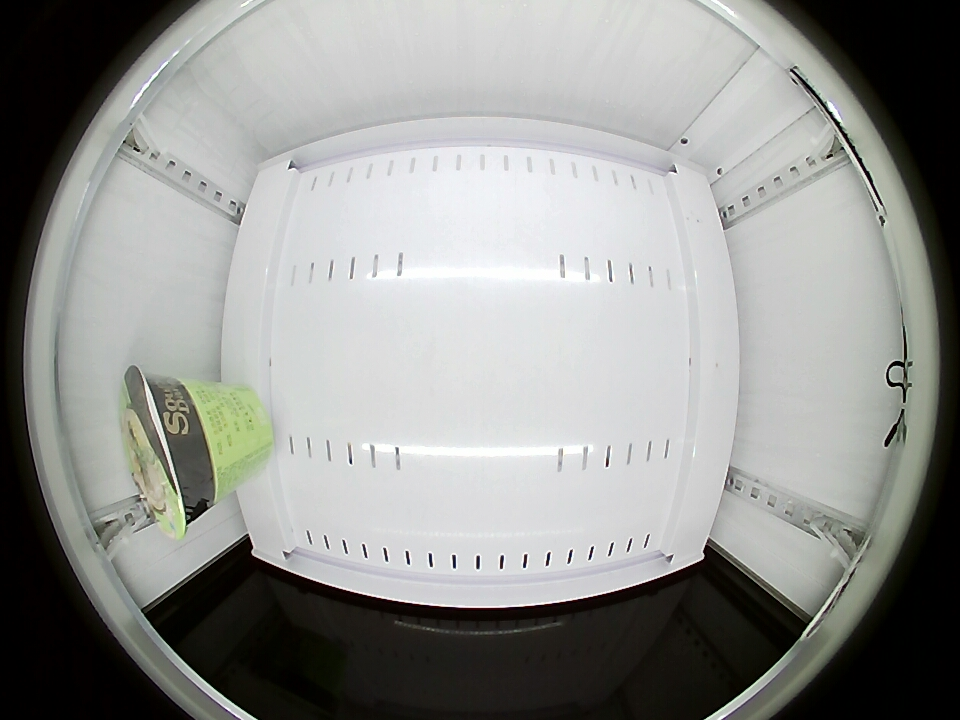tangdaren: (120, 367, 218, 538)
